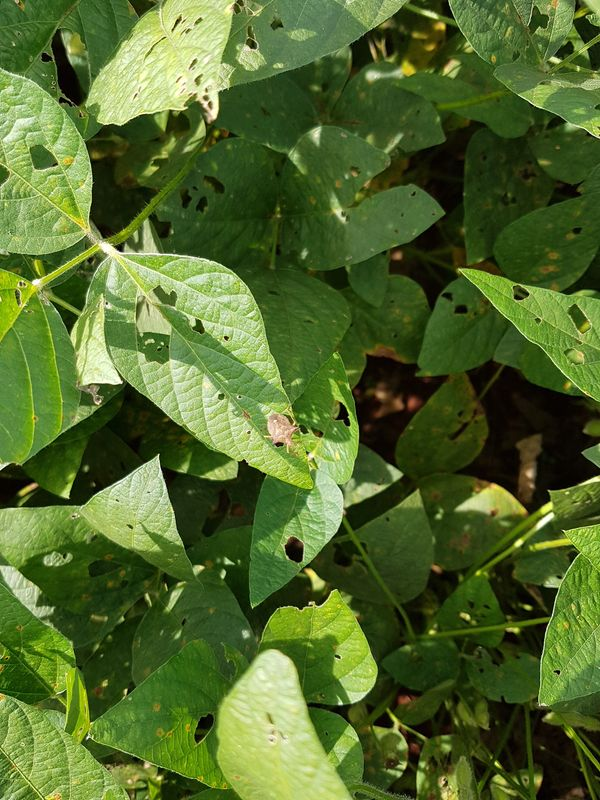Euschistus_heros_adulto: (257, 406, 308, 461)
